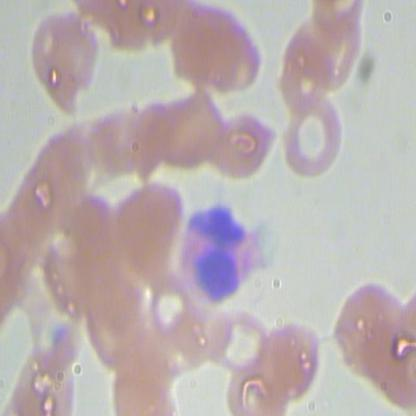RBC: (170, 1, 266, 96), (24, 10, 103, 119), (330, 280, 407, 378), (154, 86, 225, 178), (273, 16, 339, 112), (111, 177, 183, 257), (280, 96, 350, 178), (214, 105, 280, 184), (255, 317, 321, 396), (206, 303, 270, 372), (146, 270, 198, 342)
WBC: (178, 205, 266, 308)
